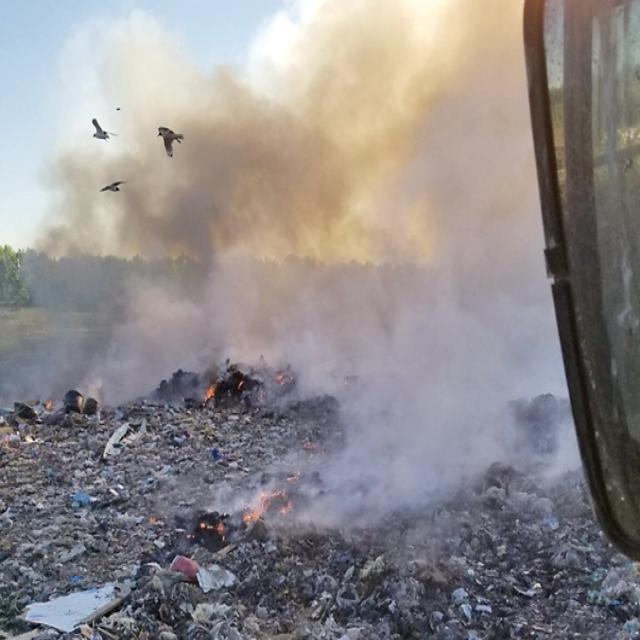Smoke: (0, 0, 570, 523)
